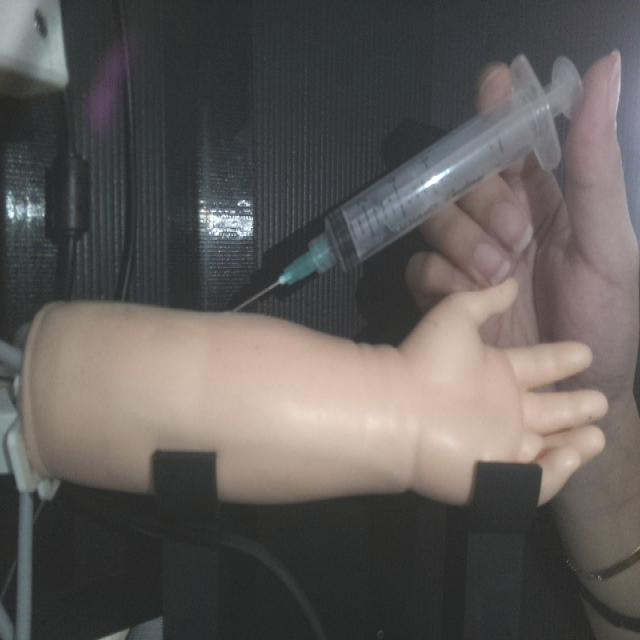Above 30 degrees: (228, 49, 584, 314)
